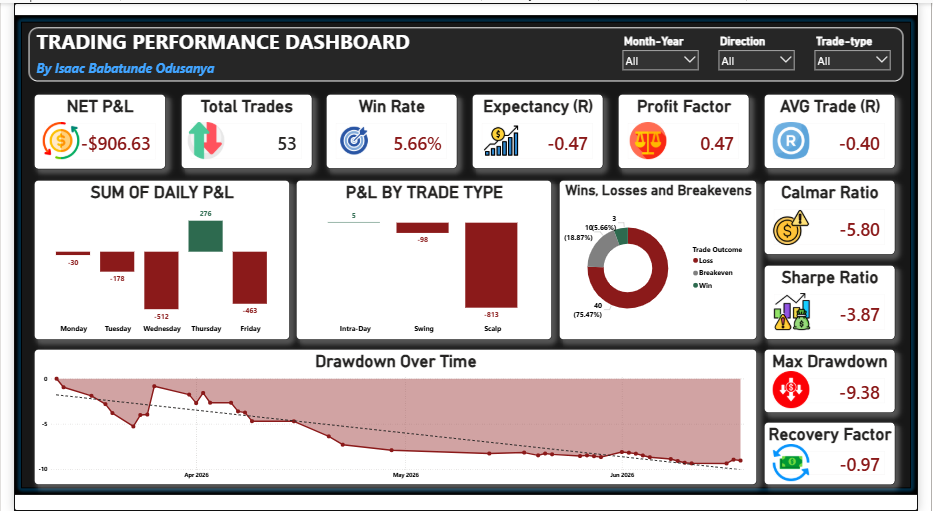

Layout of this report page (visuals, bound fields, positions):
{"tool":"powerbi","page":{"name":"Dashboard","canvas":[1920,1080],"ordinal":0},"visuals":[{"type":"textbox","box":[42.5,46.8,829.1,99.9],"z":0},{"type":"textbox","box":[42.5,114.8,829.1,55.3],"z":1000},{"type":"slicer","fields":{"Values":["Calendar.Month_Year"]},"box":[1284.1,61.7,180.7,85],"z":2000},{"type":"slicer","fields":{"Values":["DimDirection.direction"]},"box":[1488.2,61.7,180.7,85],"z":3000},{"type":"slicer","fields":{"Values":["DimTradeType.trade_type"]},"box":[1692.3,61.7,180.7,85],"z":4000},{"type":"cardVisual","title":"NET P&L","fields":{"Data":["_Measures.Net P&L"]},"box":[42.5,193.2,280,160],"z":5000},{"type":"image","box":[51,253,97.8,78.7],"z":6000},{"type":"cardVisual","title":"Total Trades","fields":{"Data":["_Measures.Total Trades"]},"box":[354.1,193.5,278.5,159.4],"z":7000},{"type":"image","box":[359.3,253,97.8,78.7],"z":8000},{"type":"cardVisual","title":"Win Rate","fields":{"Data":["_Measures.Win Rate"]},"box":[664.2,193.5,278.5,159.4],"z":9000},{"type":"cardVisual","title":"Expectancy (R)","fields":{"Data":["_Measures.Expectancy (R)"]},"box":[974.3,193.5,278.5,159.4],"z":10000},{"type":"cardVisual","title":"Profit Factor","fields":{"Data":["_Measures.Profit Factor"]},"box":[1284.4,193.5,278.5,159.4],"z":11000},{"type":"cardVisual","title":"AVG Trade (R)","fields":{"Data":["_Measures.Avg Trade (R)"]},"box":[1594.5,193.5,278.5,159.4],"z":12000},{"type":"image","box":[673.9,253,97.8,78.7],"z":13000},{"type":"image","box":[986.5,253,97.8,78.7],"z":14000},{"type":"image","box":[1299,253,97.8,78.7],"z":15000},{"type":"image","box":[1603,253,97.8,78.7],"z":16000},{"type":"clusteredColumnChart","title":"SUM OF DAILY P&L","fields":{"Y":["Sum(gold daily_pnl.daily_pnl)"],"Category":["Calendar.Day_Name"]},"box":[42.5,376.3,544.3,340.2],"z":17000},{"type":"cardVisual","title":"Calmar Ratio","fields":{"Data":["_Measures.Calmar Ratio"]},"box":[1594.5,376.3,278.5,159.4],"z":18000},{"type":"cardVisual","title":"Sharpe Ratio","fields":{"Data":["_Measures.Sharpe Ratio"]},"box":[1594.5,557,278.5,159.4],"z":19000},{"type":"clusteredColumnChart","title":"P&L BY TRADE TYPE","fields":{"Category":["DimTradeType.trade_type"],"Y":["_Measures.PnL by Trade Type"]},"box":[599.5,376.3,544.3,340.2],"z":20000},{"type":"donutChart","title":"Wins, Losses and Breakevens","fields":{"Category":["DimOutcome.trade_outcome"],"Y":["_Measures.Trade by Trade Type"]},"box":[1158.7,376.3,420.9,340.2],"z":21000},{"type":"image","box":[1603,438,97.8,78.7],"z":22000},{"type":"image","box":[1605.1,616.5,97.8,78.7],"z":23000},{"type":"cardVisual","title":"Max Drawdown","fields":{"Data":["_Measures.Max drawdown %"]},"box":[1594.5,735.6,278.5,136.1],"z":24000},{"type":"cardVisual","title":"Recovery Factor","fields":{"Data":["_Measures.Recovery Factor"]},"box":[1594.5,890.8,278.5,133.9],"z":25000},{"type":"image","box":[1603,782.4,97.8,78.7],"z":26000},{"type":"image","box":[1603,937.6,97.8,78.7],"z":27000},{"type":"areaChart","title":"Drawdown Over Time","fields":{"Category":["gold equity_curve.trade_date"],"Y":["Min(gold equity_curve.drawdown_pct)"]},"box":[42.5,735.6,1537.1,289.1],"z":28000}]}

Visuals, with their boxes in screenshot pixels (x1, y1, x2, y2), scaled from the page's 1920x1080 canvas onto the 933x511 screenshot:
textbox: l=21, t=22, r=424, b=69
textbox: l=21, t=54, r=424, b=80
slicer - Calendar.Month_Year: l=624, t=29, r=712, b=69
slicer - DimDirection.direction: l=723, t=29, r=811, b=69
slicer - DimTradeType.trade_type: l=822, t=29, r=910, b=69
"NET P&L" cardVisual: l=21, t=91, r=157, b=167
image: l=25, t=120, r=72, b=157
"Total Trades" cardVisual: l=172, t=92, r=307, b=167
image: l=175, t=120, r=222, b=157
"Win Rate" cardVisual: l=323, t=92, r=458, b=167
"Expectancy (R)" cardVisual: l=473, t=92, r=609, b=167
"Profit Factor" cardVisual: l=624, t=92, r=759, b=167
"AVG Trade (R)" cardVisual: l=775, t=92, r=910, b=167
image: l=327, t=120, r=375, b=157
image: l=479, t=120, r=527, b=157
image: l=631, t=120, r=679, b=157
image: l=779, t=120, r=826, b=157
"SUM OF DAILY P&L" clusteredColumnChart: l=21, t=178, r=285, b=339
"Calmar Ratio" cardVisual: l=775, t=178, r=910, b=253
"Sharpe Ratio" cardVisual: l=775, t=264, r=910, b=339
"P&L BY TRADE TYPE" clusteredColumnChart: l=291, t=178, r=556, b=339
"Wins, Losses and Breakevens" donutChart: l=563, t=178, r=768, b=339
image: l=779, t=207, r=826, b=244
image: l=780, t=292, r=828, b=329
"Max Drawdown" cardVisual: l=775, t=348, r=910, b=412
"Recovery Factor" cardVisual: l=775, t=421, r=910, b=485
image: l=779, t=370, r=826, b=407
image: l=779, t=444, r=826, b=481
"Drawdown Over Time" areaChart: l=21, t=348, r=768, b=485
